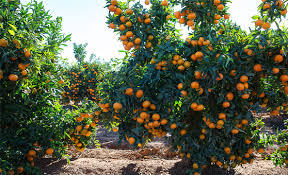orange: (124, 87, 135, 97), (113, 102, 122, 110)
